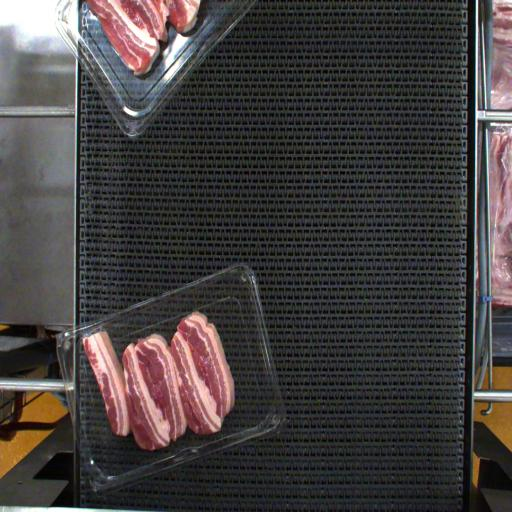packaging-error: (72, 323, 116, 343)
